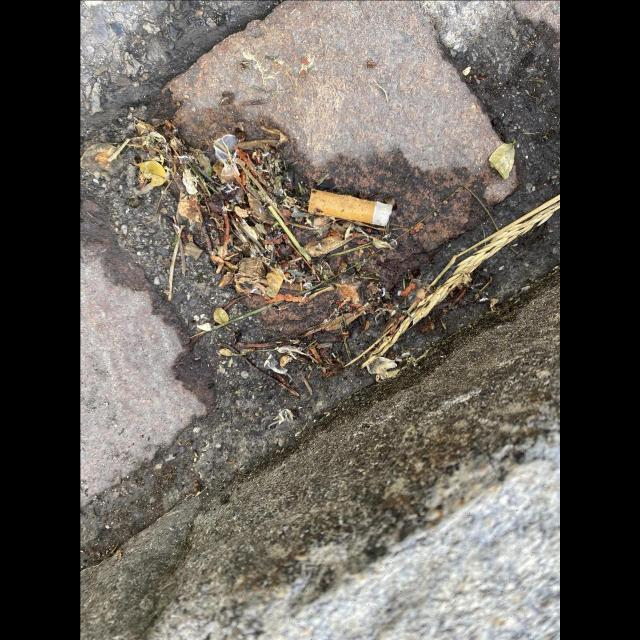cigarette: (306, 188, 393, 228)
